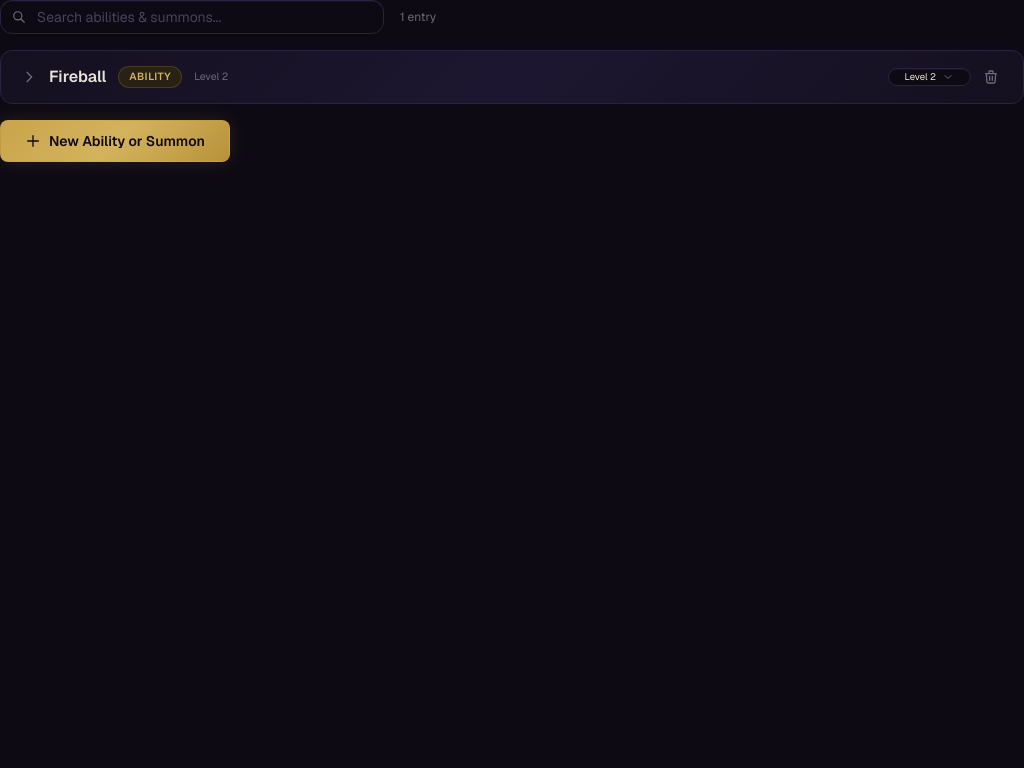
Scenario: AbilitiesTab › shows Deleting... on delete button while processing
Step 1. Click the button titled "Delete ability" → point(991, 77), box [979,65,1003,89]
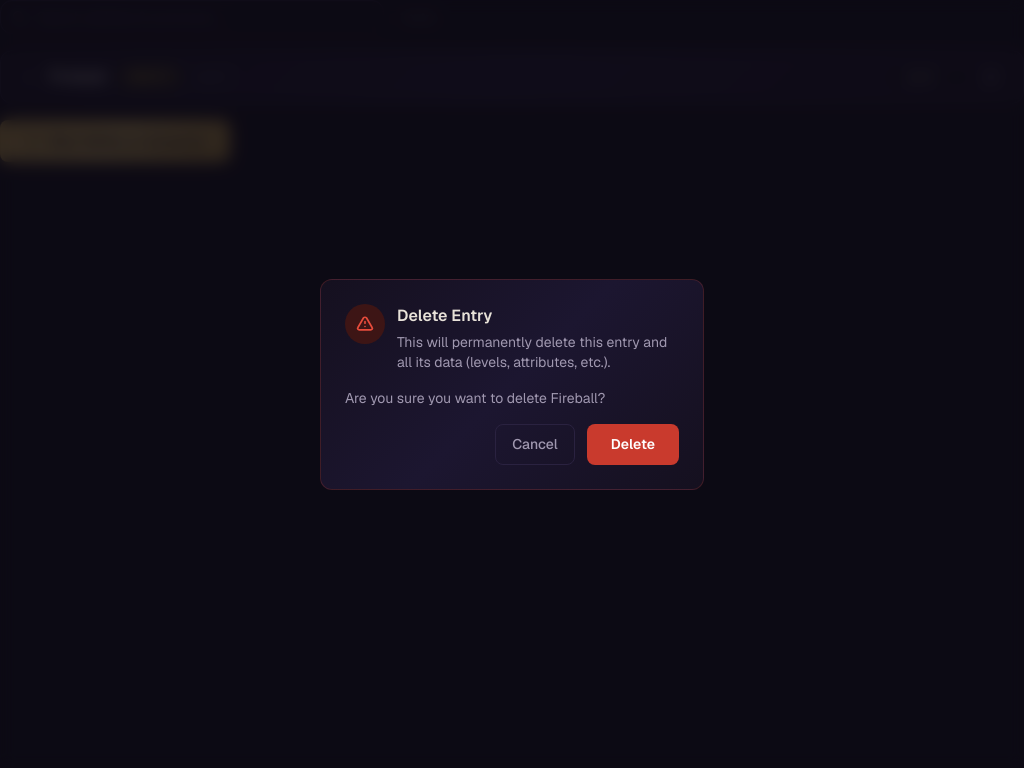
Step 2. Click the button "Delete" → point(633, 444), box [587,424,679,464]
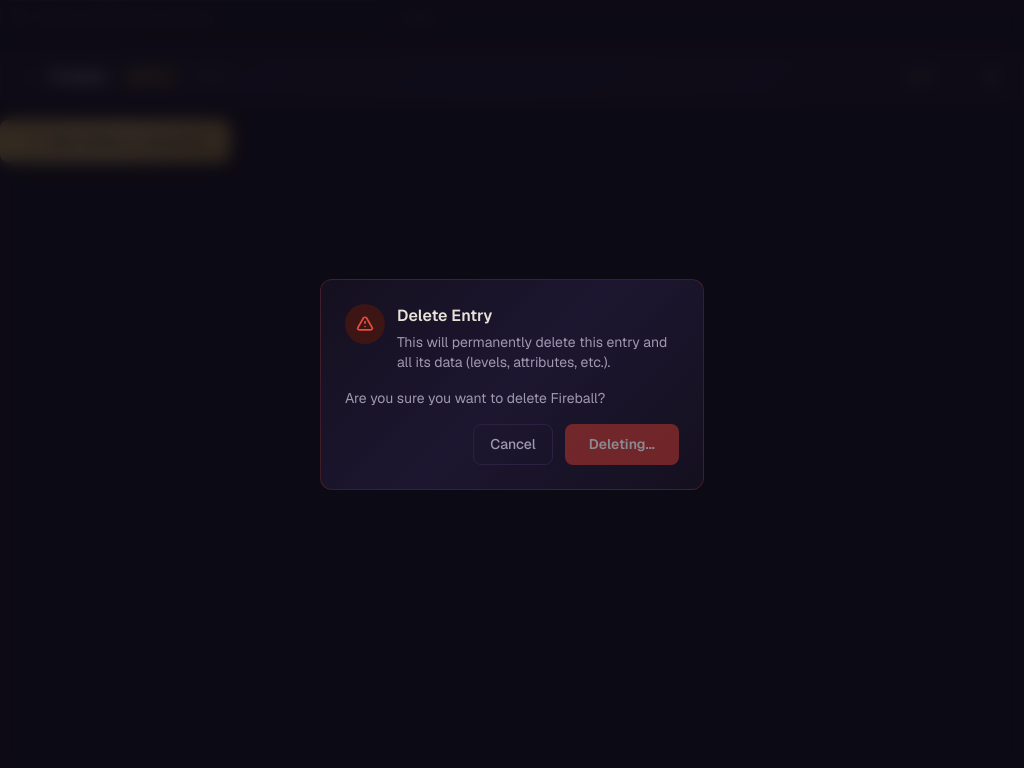
expect the button "Deleting..." is shown: met, box [565,424,679,464]
